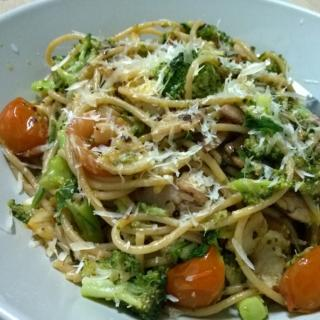Pasta: (24, 38, 302, 282)
Salad: (0, 11, 319, 320)
